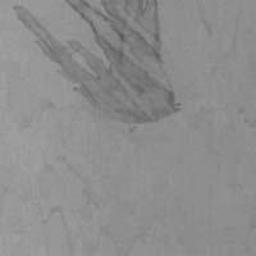Water spot: (12, 0, 183, 127)
